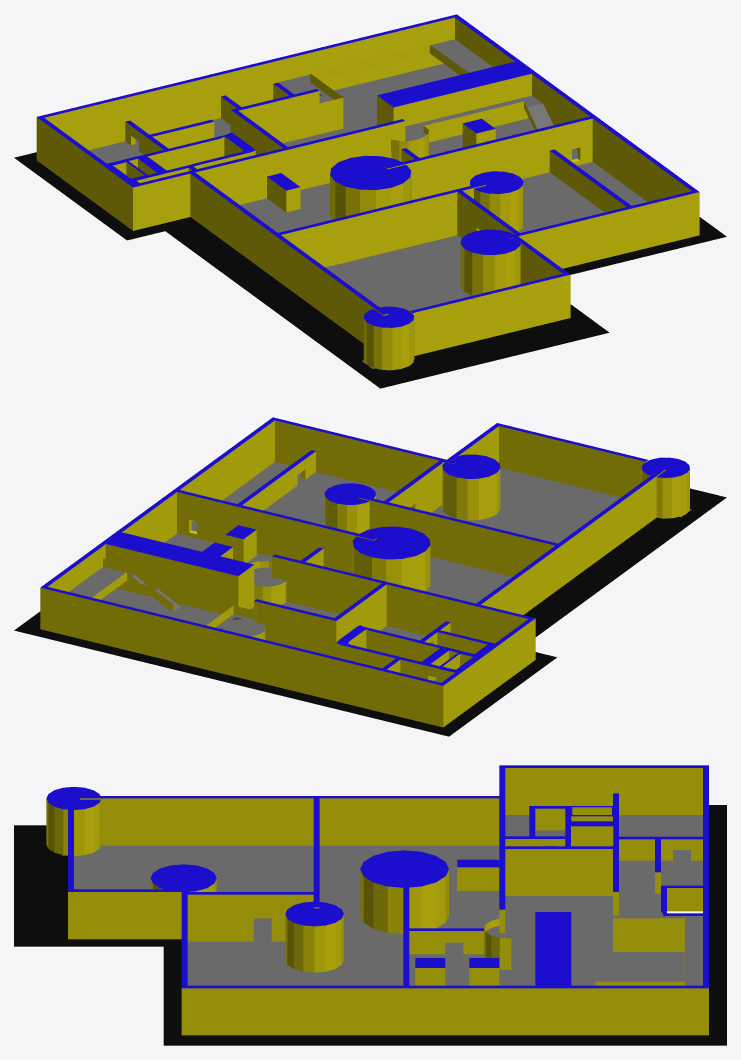
File: nivel1_pre (2).fbx
3 views of the same model, one above another, from view 1: azimuth 30°, elevation 25°; view 2: azimuth 150°, elevation 25°; view 3: azimuth 270°, elevation 25° (orthographic). The views are drawn at different scales.
Parts seen in each view (by area): view 1: escenario; view 2: escenario; view 3: escenario.
Part boxes in pixels (<box>): escenario: <box>14,14,726,388</box>; escenario: <box>14,417,726,736</box>; escenario: <box>14,765,726,1045</box>.
Size of the model in its own units: 13047 by 1867 by 16343.
